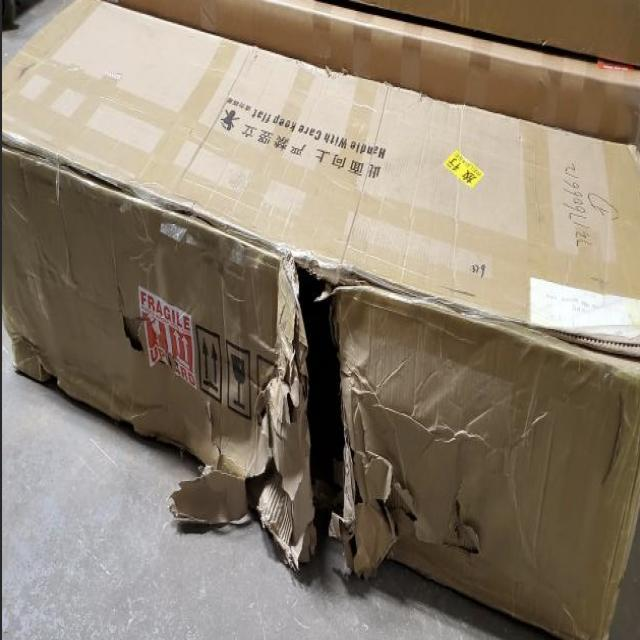hole: (265, 254, 357, 563)
